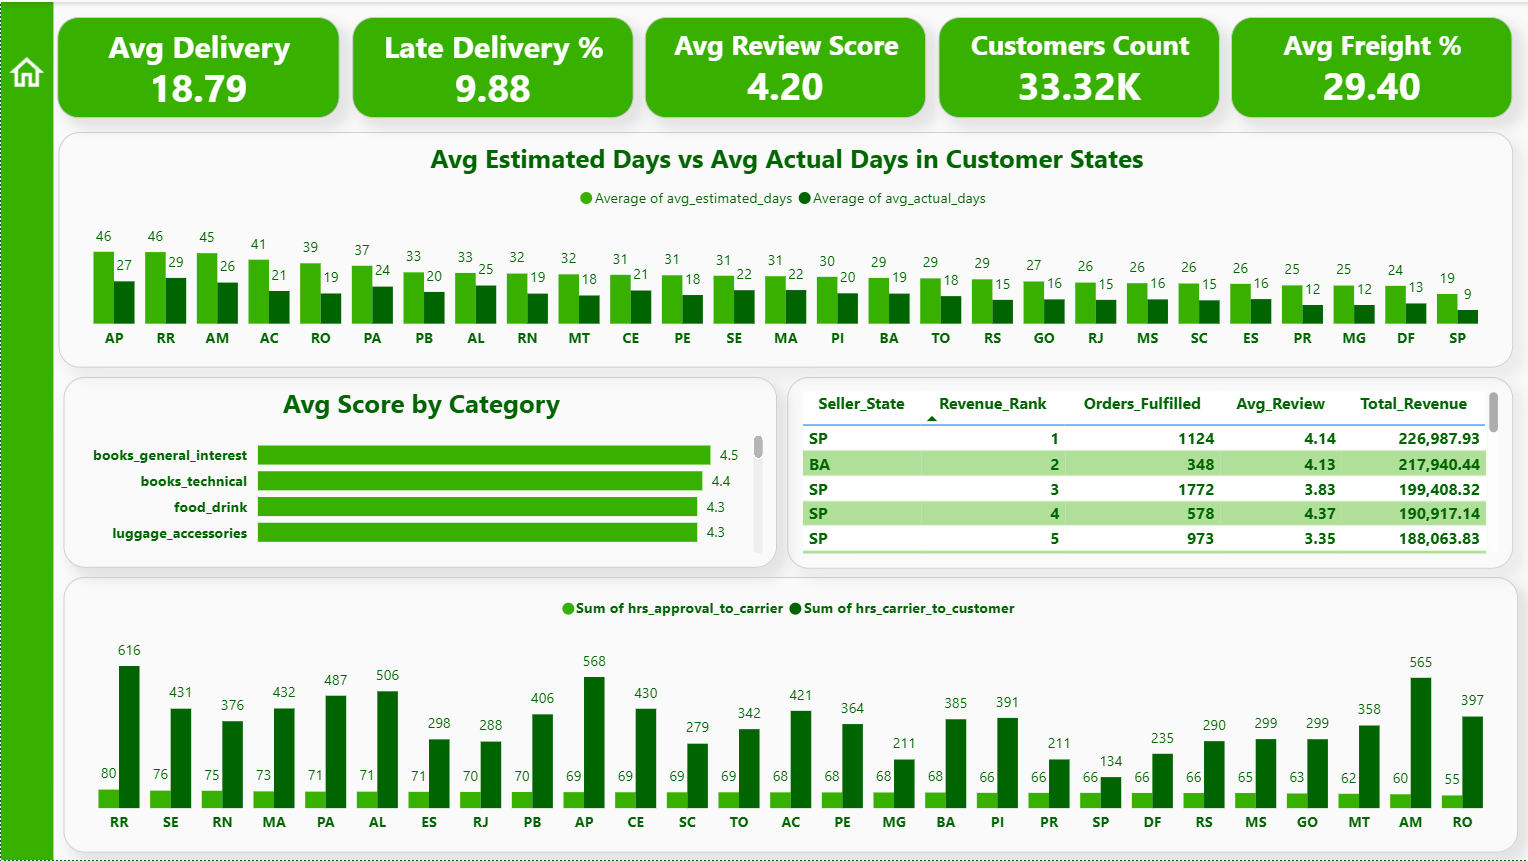

Layout of this report page (visuals, bound fields, positions):
{"tool":"powerbi","page":{"name":"Logistics Page","canvas":[1280,720],"ordinal":1},"visuals":[{"type":"shape","box":[0,0,44.3,720.3],"z":0},{"type":"card","title":"Avg Delivery","fields":{"Values":["Avg(q5_delivery_time.avg_actual_days)"]},"box":[47.6,13,236.6,85],"z":1000},{"type":"card","title":"Late Delivery %","fields":{"Values":["Avg(q8_late_delivery.late_pct)"]},"box":[294.3,13,236,85],"z":2000},{"type":"card","title":"Avg Review Score","fields":{"Values":["Avg(q7_review_by_category.avg_score)"]},"box":[540.3,13,236,85],"z":3000},{"type":"card","title":"Customers Count","fields":{"Values":["Sum(q10_rfm.customer_count)"]},"box":[786.3,13,236,85],"z":4000},{"type":"card","title":"Avg Freight %","fields":{"Values":["Avg(q15_freight_burden.freight_pct)"]},"box":[1031.6,13,236,85],"z":5000},{"type":"clusteredColumnChart","title":"Avg Estimated Days vs Avg Actual Days in Customer States","fields":{"Category":["q5_delivery_time.customer_state"],"Y":["Avg(q5_delivery_time.avg_estimated_days)","Avg(q5_delivery_time.avg_actual_days)"]},"box":[47.9,109.1,1220.1,197.8],"z":6000},{"type":"barChart","title":"Avg Score by Category","fields":{"Category":["q7_review_by_category.category"],"Y":["Avg(q7_review_by_category.avg_score)"]},"box":[51.9,314,598.7,160.1],"z":7000},{"type":"tableEx","fields":{"Values":["q4_seller_ranking.seller_state","q4_seller_ranking.revenue_rank","q4_seller_ranking.orders_fulfilled","q4_seller_ranking.avg_review_score","q4_seller_ranking.total_revenue"]},"box":[659.2,314,608.8,160.6],"z":8000},{"type":"clusteredColumnChart","fields":{"Category":["q14_delivery_funnel.customer_state"],"Y":["Sum(q14_delivery_funnel.hrs_approval_to_carrier)","Sum(q14_delivery_funnel.hrs_carrier_to_customer)"]},"box":[51.9,481.9,1220,230.8],"z":9000},{"type":"actionButton","box":[0,34.8,43.1,50.3],"z":10000}]}

Visuals, with their boxes on the page's 1280x720 design canvas (x1, y1, x2, y2). These are canvas units, not pixel positions in the 1528x861 screenshot, which may show the page scaled, cropped or inside an application window:
shape: <bbox>0, 0, 44, 720</bbox>
"Avg Delivery" card: <bbox>48, 13, 284, 98</bbox>
"Late Delivery %" card: <bbox>294, 13, 530, 98</bbox>
"Avg Review Score" card: <bbox>540, 13, 776, 98</bbox>
"Customers Count" card: <bbox>786, 13, 1022, 98</bbox>
"Avg Freight %" card: <bbox>1032, 13, 1268, 98</bbox>
"Avg Estimated Days vs Avg Actual Days in Customer States" clusteredColumnChart: <bbox>48, 109, 1268, 307</bbox>
"Avg Score by Category" barChart: <bbox>52, 314, 651, 474</bbox>
tableEx - q4_seller_ranking.seller_state x q4_seller_ranking.revenue_rank: <bbox>659, 314, 1268, 475</bbox>
clusteredColumnChart - q14_delivery_funnel.customer_state x Sum(q14_delivery_funnel.hrs_approval_to_carrier): <bbox>52, 482, 1272, 713</bbox>
actionButton: <bbox>0, 35, 43, 85</bbox>
